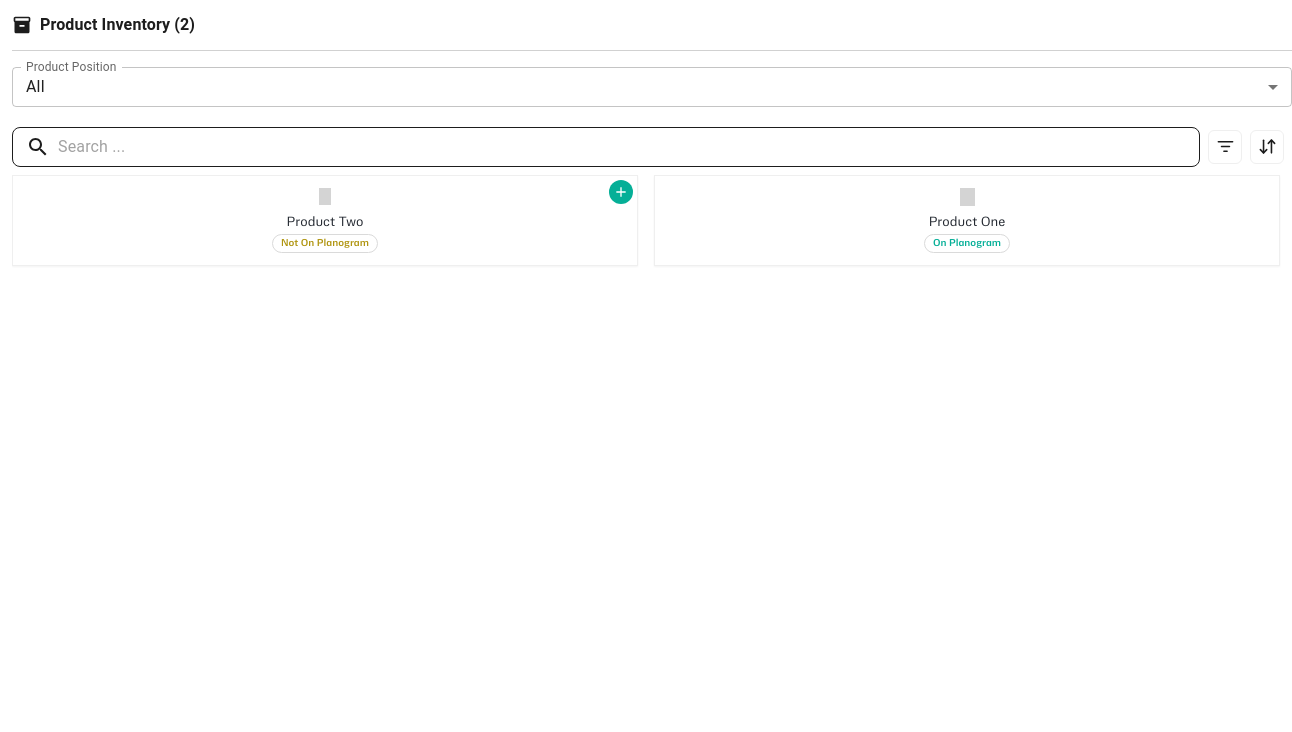
Test: ProductInventory › shows active filter badge when filters are applied
Click the 1st button at (1225,147), box [1208, 130, 1242, 164]
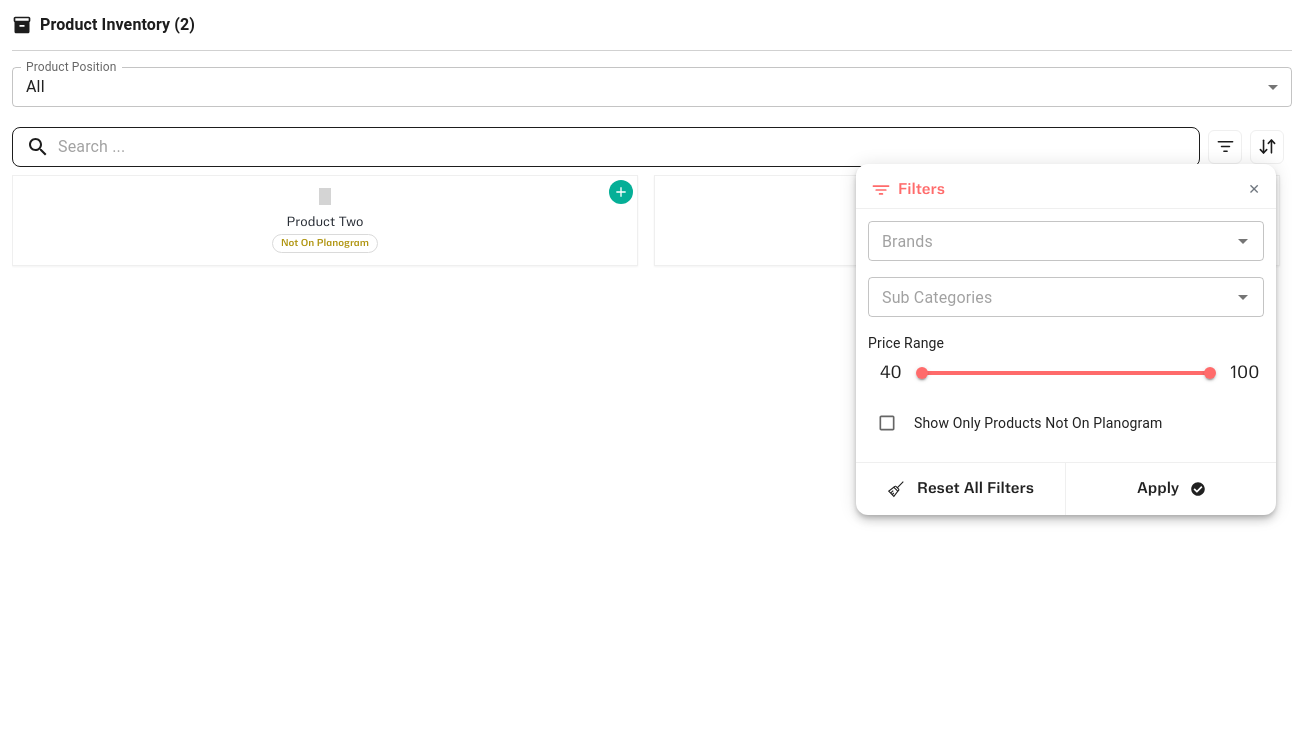
Check: the text "Filters" is shown, box [898, 180, 945, 200]
